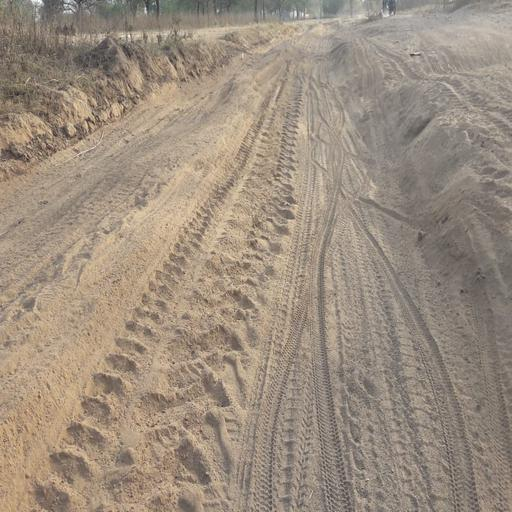vehicle_track: (0, 27, 512, 512)
